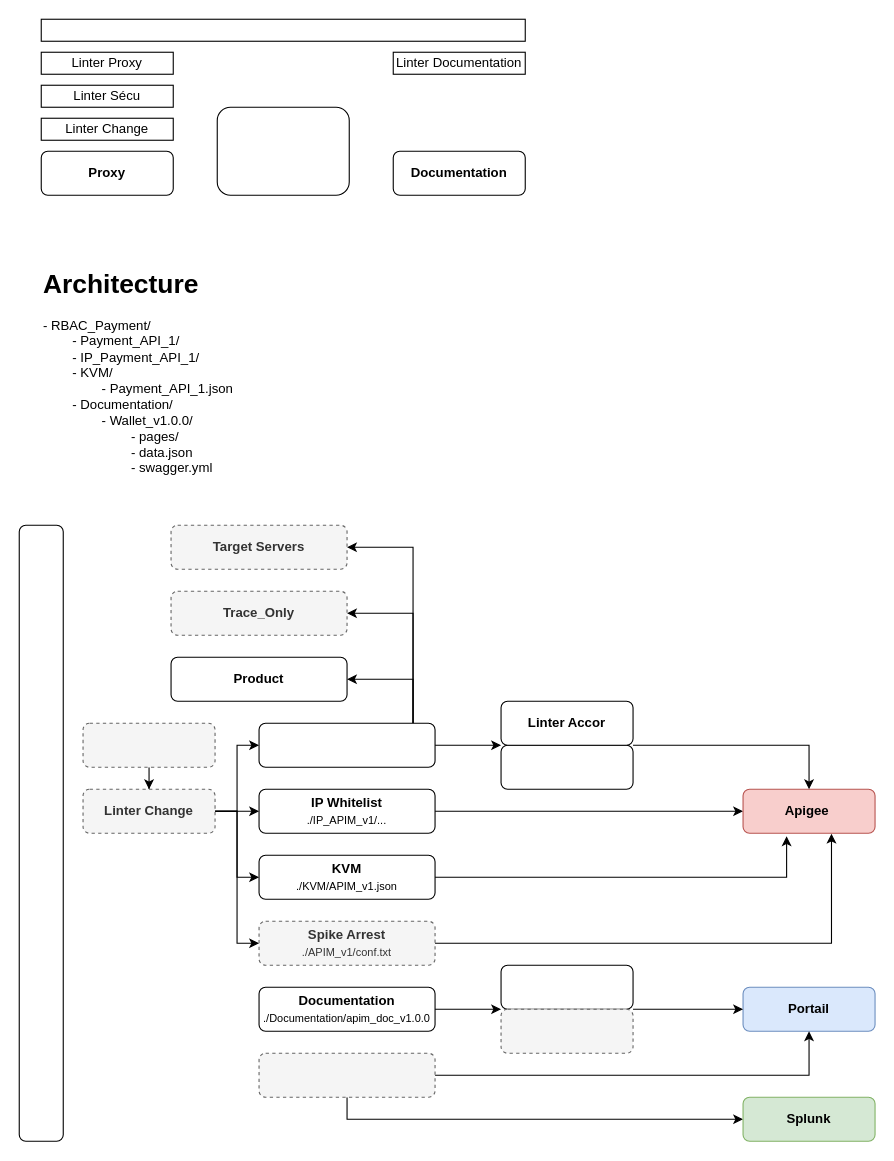
Some shapes in this 894 by 1161 pixel diagram are drawn without their labels. The shapes that lost their labels are listed below. From the top down, each one's box as (x1, y1, x2, y2) in pixels, then its label:
(40, 18, 525, 41): CI/CD
(216, 106, 349, 195): Config Supervision, product, Target Server, spike arrest, KVM, IPs
(82, 722, 215, 767): Linter Pentests
(258, 722, 435, 767): Proxy ./APIM_v1/...
(500, 744, 633, 789): Linter Apigee
(18, 524, 63, 1141): Packaging - Versioning - Archivage
(500, 964, 633, 1009): Linter Swagger openAPI + Accor
(500, 1008, 633, 1053): Changelog GenAI
(258, 1052, 435, 1097): Supervision
